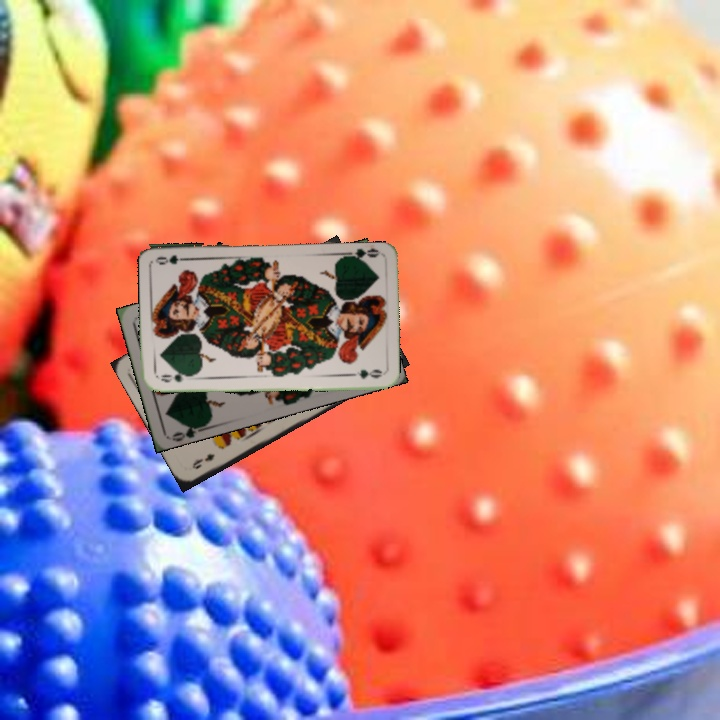E9: (188, 449, 217, 472)
GO: (168, 420, 208, 443), (342, 245, 382, 265), (157, 368, 195, 385)
